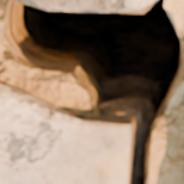brick: (0, 83, 132, 183), (17, 0, 154, 11)
crack: (0, 0, 183, 183)
